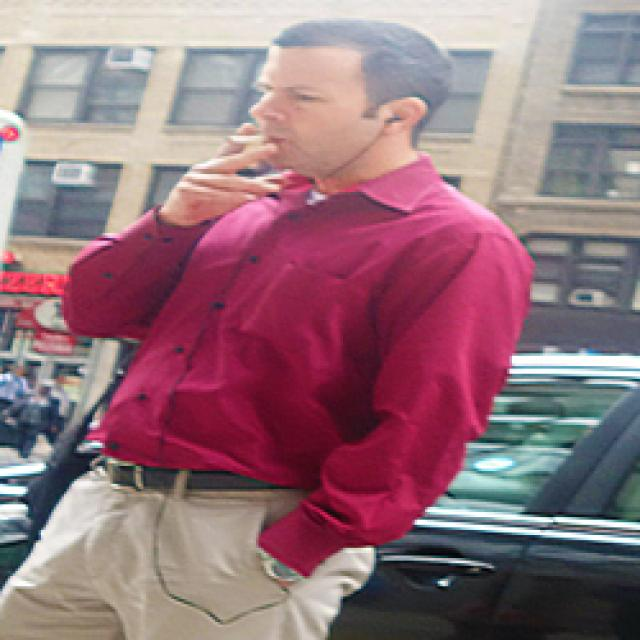Smooking: (227, 121, 270, 150)
